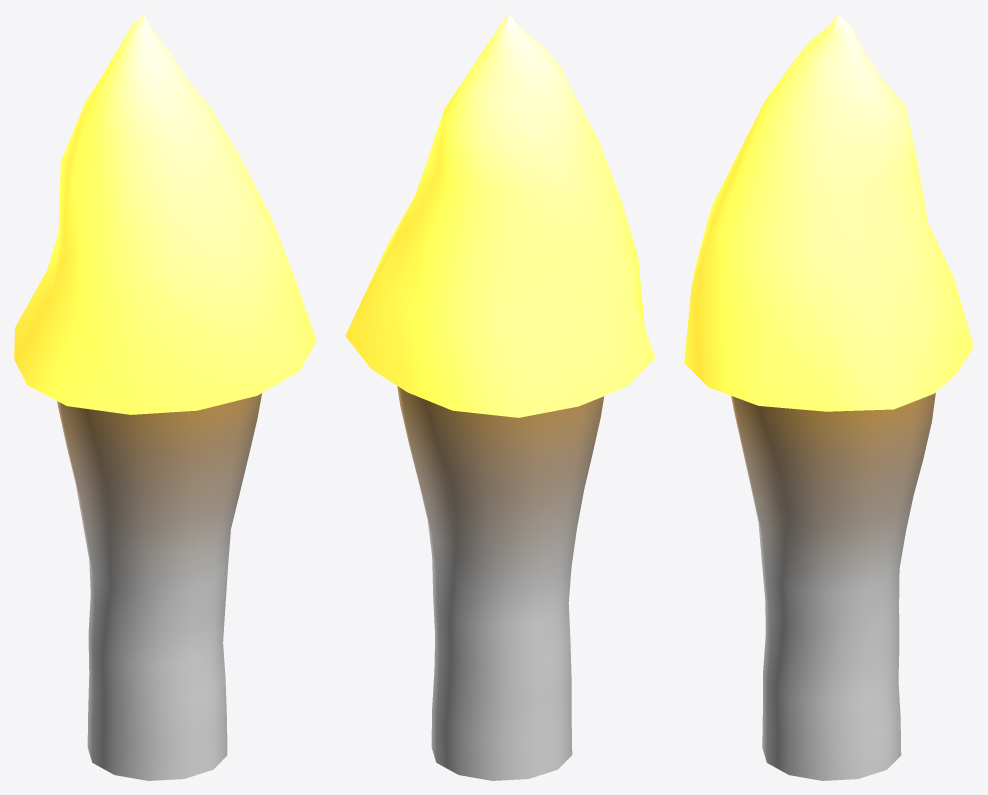
The model's file is mushroom_7.glb.
3 views of the same model, side by side, from view 1: azimuth 30°, elevation 25°; view 2: azimuth 150°, elevation 25°; view 3: azimuth 270°, elevation 25° (orthographic).
Parts seen in each view (by area): view 1: geo1; view 2: geo1; view 3: geo1.
Part boxes in pixels (<box>): geo1: <box>14,14,316,780</box>; geo1: <box>345,14,655,780</box>; geo1: <box>684,14,973,780</box>.
Size of the model in its own units: 0.123 by 0.3415 by 0.1223.
